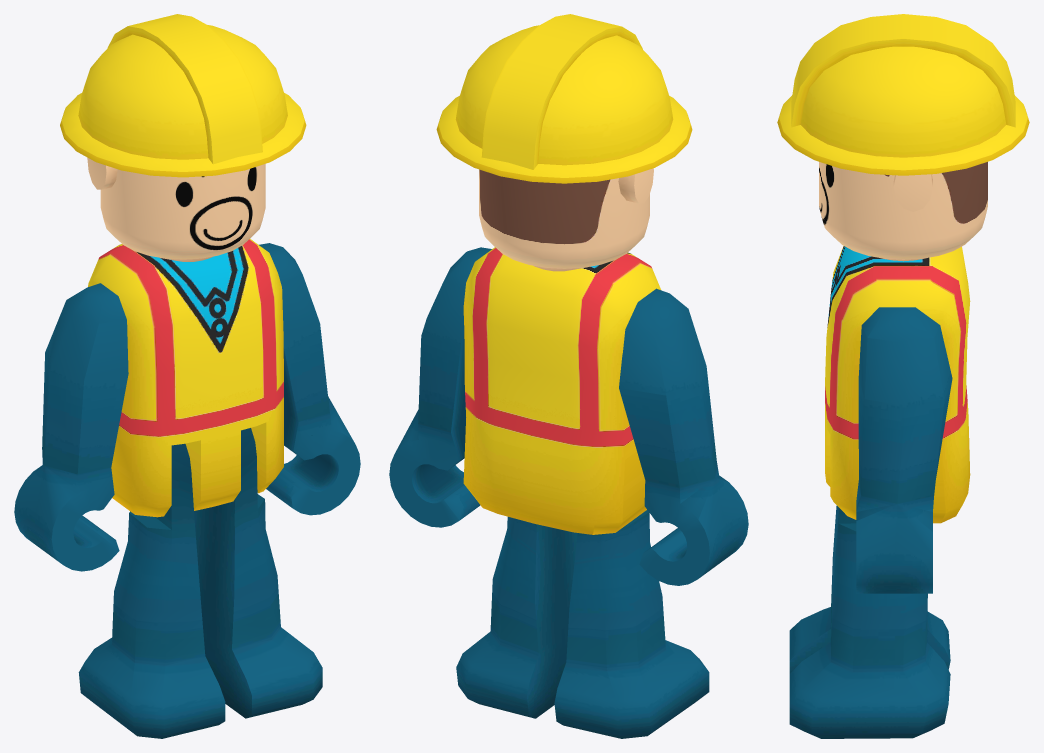
Rendered from plakids_g1.glb.
The picture shows the model from 3 angles, left to right: view 1: azimuth 30°, elevation 25°; view 2: azimuth 150°, elevation 25°; view 3: azimuth 270°, elevation 25°; orthographic projection. The views are drawn at different scales.
Visible parts, largest first — view 1: plakids_head, plakids_dou, plakids_R_leg, plakids_R_arm, plakids_L_leg, plakids_L_arm; view 2: plakids_head, plakids_dou, plakids_R_arm, plakids_R_leg, plakids_L_leg, plakids_L_arm; view 3: plakids_head, plakids_L_arm, plakids_L_leg, plakids_dou, plakids_R_leg.
Boxes of the visible parts, x1,y1,x2,y2 form: plakids_head: (60, 14, 306, 261); plakids_dou: (88, 239, 283, 517); plakids_R_leg: (78, 443, 225, 738); plakids_R_arm: (14, 283, 128, 571); plakids_L_leg: (194, 428, 322, 718); plakids_L_arm: (259, 243, 360, 515); plakids_head: (436, 14, 692, 271); plakids_dou: (463, 247, 660, 534); plakids_R_arm: (619, 288, 748, 585); plakids_R_leg: (554, 510, 709, 738); plakids_L_leg: (456, 517, 577, 718); plakids_L_arm: (389, 247, 491, 527); plakids_head: (777, 14, 1029, 261); plakids_L_arm: (856, 307, 952, 593); plakids_L_leg: (789, 508, 950, 738); plakids_dou: (825, 246, 970, 523); plakids_R_leg: (789, 505, 950, 673).
Size of the model in its own units: 1.86 by 3.76 by 1.29.
Materials: 2 (2 with a texture image).
